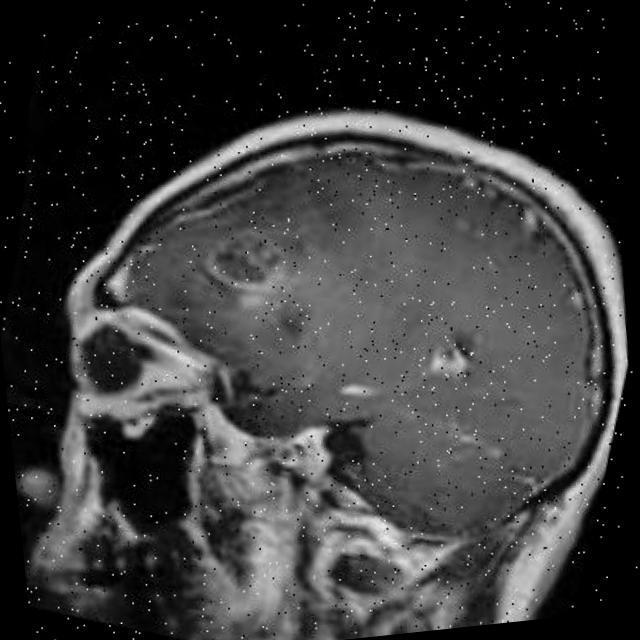LMCI: (176, 170, 318, 323)
